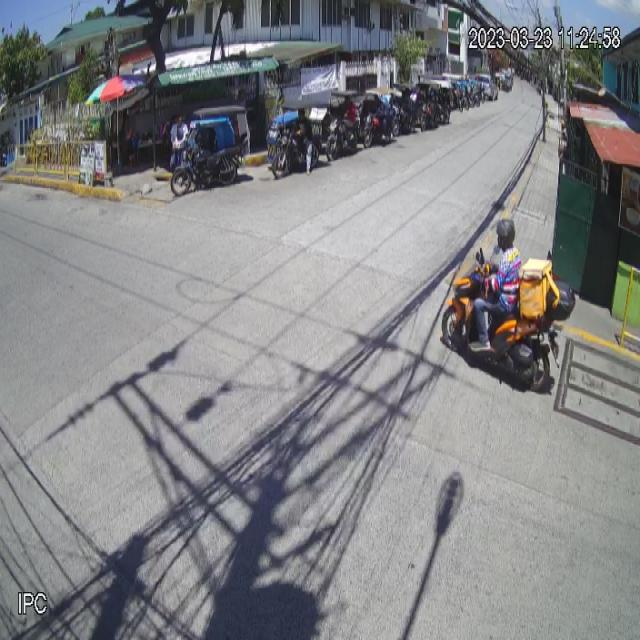Motorcycle: (440, 246, 577, 394)
Tricycle: (170, 102, 253, 196)
